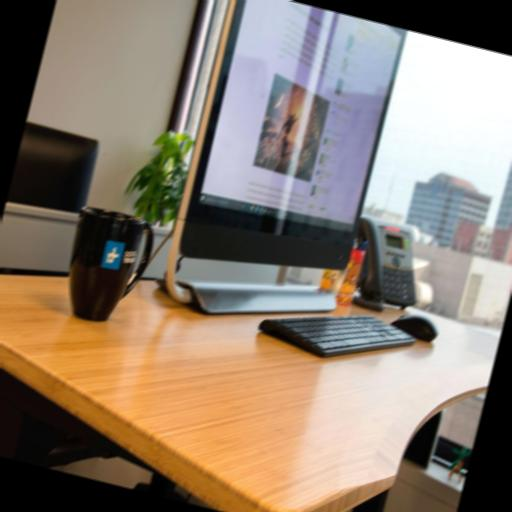desk: (0, 205, 501, 512)
